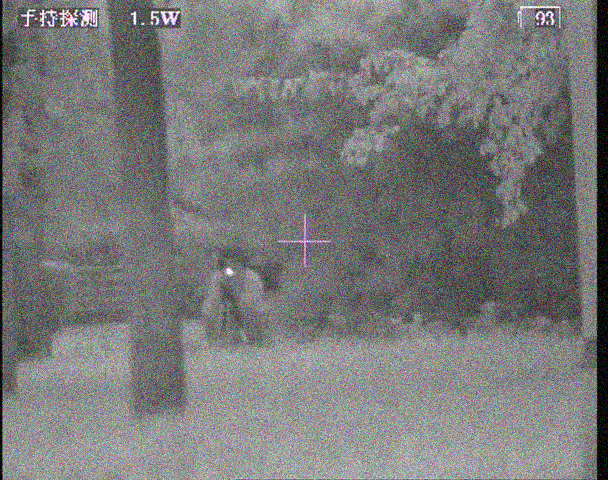my: (224, 267, 235, 277)
